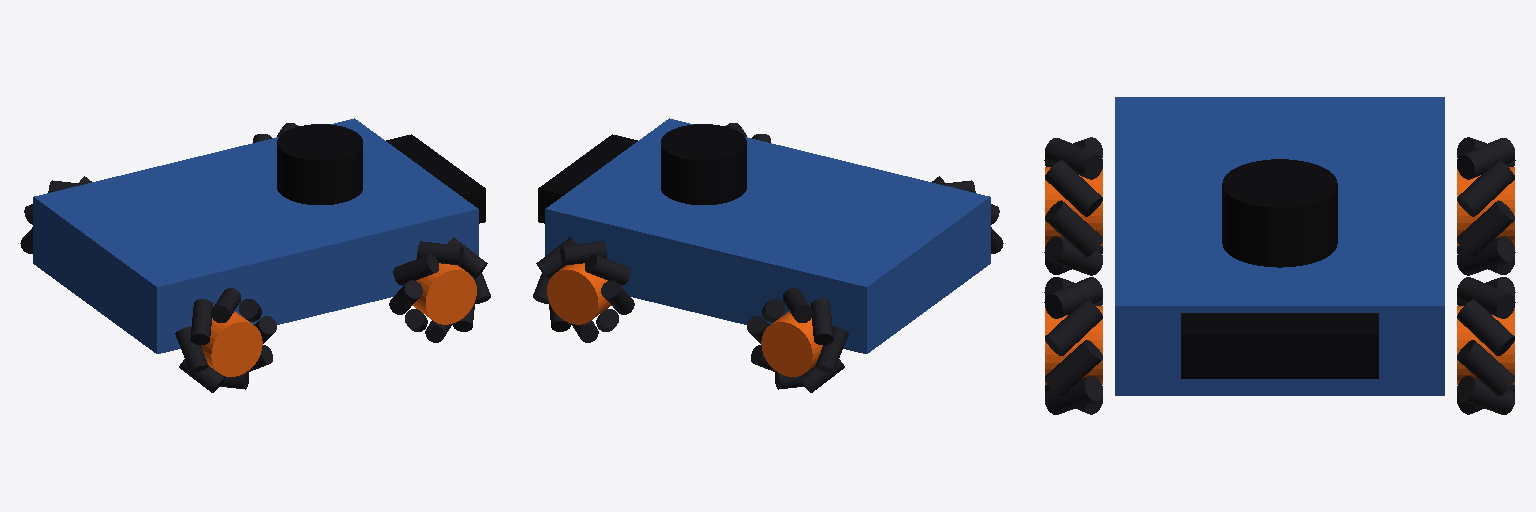
robot.urdf — mecanum_bot:
<?xml version="1.0" ?>
<!-- Generated by Robot Studio 1.0.0 from the 'mecanum' template. Software-generated: check masses, dimensions and limits against the real robot. -->
<robot name="mecanum_bot">
  <material name="chassis">
    <color rgba="0.2 0.36 0.62 1"/>
  </material>
  <material name="wheel">
    <color rgba="0.15 0.15 0.17 1"/>
  </material>
  <material name="hub">
    <color rgba="0.92 0.42 0.12 1"/>
  </material>
  <material name="caster">
    <color rgba="0.6 0.6 0.62 1"/>
  </material>
  <material name="sensor">
    <color rgba="0.08 0.08 0.09 1"/>
  </material>
  <link name="base_footprint"/>
  <link name="base_link">
    <inertial>
      <origin rpy="0 0 0" xyz="0 0 0.02"/>
      <mass value="3"/>
      <inertia ixx="0.010900000000000002" ixy="0" ixz="0" iyy="0.0234" iyz="0" izz="0.0325"/>
    </inertial>
    <visual>
      <origin rpy="0 0 0" xyz="0 0 0.02"/>
      <geometry>
        <box size="0.3 0.2 0.06"/>
      </geometry>
      <material name="chassis"/>
    </visual>
    <collision>
      <origin rpy="0 0 0" xyz="0 0 0.02"/>
      <geometry>
        <box size="0.3 0.2 0.06"/>
      </geometry>
    </collision>
  </link>
  <joint name="base_joint" type="fixed">
    <parent link="base_footprint"/>
    <child link="base_link"/>
    <origin rpy="0 0 0" xyz="0 0 0.04"/>
  </joint>
  <link name="front_left_wheel">
    <inertial>
      <origin rpy="0 0 0" xyz="0 0 0"/>
      <mass value="0.15"/>
      <inertia ixx="0.0000753125" ixy="0" ixz="0" iyy="0.00012" iyz="0" izz="0.0000753125"/>
    </inertial>
    <visual name="hub">
      <origin rpy="1.5707963267948966 0 0" xyz="0 0 0"/>
      <geometry>
        <cylinder length="0.035" radius="0.024"/>
      </geometry>
      <material name="hub"/>
    </visual>
    <visual name="roller_0">
      <origin rpy="0.7853981633974483 0 0" xyz="0.032 0 0"/>
      <geometry>
        <cylinder length="0.03455751918948773" radius="0.008"/>
      </geometry>
      <material name="wheel"/>
    </visual>
    <visual name="roller_1">
      <origin rpy="0.7853981633974483 -0.7853981633974483 0" xyz="0.022627416997969524 0 0.02262741699796952"/>
      <geometry>
        <cylinder length="0.03455751918948773" radius="0.008"/>
      </geometry>
      <material name="wheel"/>
    </visual>
    <visual name="roller_2">
      <origin rpy="0.7853981633974483 -1.5707963267948966 0" xyz="1.959434878635765e-18 0 0.032"/>
      <geometry>
        <cylinder length="0.03455751918948773" radius="0.008"/>
      </geometry>
      <material name="wheel"/>
    </visual>
    <visual name="roller_3">
      <origin rpy="0.7853981633974483 -2.356194490192345 0" xyz="-0.02262741699796952 0 0.022627416997969524"/>
      <geometry>
        <cylinder length="0.03455751918948773" radius="0.008"/>
      </geometry>
      <material name="wheel"/>
    </visual>
    <visual name="roller_4">
      <origin rpy="0.7853981633974483 -3.141592653589793 0" xyz="-0.032 0 3.91886975727153e-18"/>
      <geometry>
        <cylinder length="0.03455751918948773" radius="0.008"/>
      </geometry>
      <material name="wheel"/>
    </visual>
    <visual name="roller_5">
      <origin rpy="0.7853981633974483 -3.9269908169872414 0" xyz="-0.022627416997969527 0 -0.02262741699796952"/>
      <geometry>
        <cylinder length="0.03455751918948773" radius="0.008"/>
      </geometry>
      <material name="wheel"/>
    </visual>
    <visual name="roller_6">
      <origin rpy="0.7853981633974483 -4.71238898038469 0" xyz="-5.8783046359072955e-18 0 -0.032"/>
      <geometry>
        <cylinder length="0.03455751918948773" radius="0.008"/>
      </geometry>
      <material name="wheel"/>
    </visual>
    <visual name="roller_7">
      <origin rpy="0.7853981633974483 -5.497787143782138 0" xyz="0.022627416997969517 0 -0.022627416997969527"/>
      <geometry>
        <cylinder length="0.03455751918948773" radius="0.008"/>
      </geometry>
      <material name="wheel"/>
    </visual>
    <collision>
      <origin rpy="1.5707963267948966 0 0" xyz="0 0 0"/>
      <geometry>
        <cylinder length="0.035" radius="0.04"/>
      </geometry>
    </collision>
  </link>
  <joint name="front_left_wheel_joint" type="continuous">
    <parent link="base_link"/>
    <child link="front_left_wheel"/>
    <origin rpy="0 0 0" xyz="0.1 0.125 0"/>
    <axis xyz="0 1 0"/>
    <limit effort="2" velocity="20"/>
  </joint>
  <link name="front_right_wheel">
    <inertial>
      <origin rpy="0 0 0" xyz="0 0 0"/>
      <mass value="0.15"/>
      <inertia ixx="0.0000753125" ixy="0" ixz="0" iyy="0.00012" iyz="0" izz="0.0000753125"/>
    </inertial>
    <visual name="hub">
      <origin rpy="1.5707963267948966 0 0" xyz="0 0 0"/>
      <geometry>
        <cylinder length="0.035" radius="0.024"/>
      </geometry>
      <material name="hub"/>
    </visual>
    <visual name="roller_0">
      <origin rpy="-0.7853981633974483 0 0" xyz="0.032 0 0"/>
      <geometry>
        <cylinder length="0.03455751918948773" radius="0.008"/>
      </geometry>
      <material name="wheel"/>
    </visual>
    <visual name="roller_1">
      <origin rpy="-0.7853981633974483 -0.7853981633974483 0" xyz="0.022627416997969524 0 0.02262741699796952"/>
      <geometry>
        <cylinder length="0.03455751918948773" radius="0.008"/>
      </geometry>
      <material name="wheel"/>
    </visual>
    <visual name="roller_2">
      <origin rpy="-0.7853981633974483 -1.5707963267948966 0" xyz="1.959434878635765e-18 0 0.032"/>
      <geometry>
        <cylinder length="0.03455751918948773" radius="0.008"/>
      </geometry>
      <material name="wheel"/>
    </visual>
    <visual name="roller_3">
      <origin rpy="-0.7853981633974483 -2.356194490192345 0" xyz="-0.02262741699796952 0 0.022627416997969524"/>
      <geometry>
        <cylinder length="0.03455751918948773" radius="0.008"/>
      </geometry>
      <material name="wheel"/>
    </visual>
    <visual name="roller_4">
      <origin rpy="-0.7853981633974483 -3.141592653589793 0" xyz="-0.032 0 3.91886975727153e-18"/>
      <geometry>
        <cylinder length="0.03455751918948773" radius="0.008"/>
      </geometry>
      <material name="wheel"/>
    </visual>
    <visual name="roller_5">
      <origin rpy="-0.7853981633974483 -3.9269908169872414 0" xyz="-0.022627416997969527 0 -0.02262741699796952"/>
      <geometry>
        <cylinder length="0.03455751918948773" radius="0.008"/>
      </geometry>
      <material name="wheel"/>
    </visual>
    <visual name="roller_6">
      <origin rpy="-0.7853981633974483 -4.71238898038469 0" xyz="-5.8783046359072955e-18 0 -0.032"/>
      <geometry>
        <cylinder length="0.03455751918948773" radius="0.008"/>
      </geometry>
      <material name="wheel"/>
    </visual>
    <visual name="roller_7">
      <origin rpy="-0.7853981633974483 -5.497787143782138 0" xyz="0.022627416997969517 0 -0.022627416997969527"/>
      <geometry>
        <cylinder length="0.03455751918948773" radius="0.008"/>
      </geometry>
      <material name="wheel"/>
    </visual>
    <collision>
      <origin rpy="1.5707963267948966 0 0" xyz="0 0 0"/>
      <geometry>
        <cylinder length="0.035" radius="0.04"/>
      </geometry>
    </collision>
  </link>
  <joint name="front_right_wheel_joint" type="continuous">
    <parent link="base_link"/>
    <child link="front_right_wheel"/>
    <origin rpy="0 0 0" xyz="0.1 -0.125 0"/>
    <axis xyz="0 1 0"/>
    <limit effort="2" velocity="20"/>
  </joint>
  <link name="rear_left_wheel">
    <inertial>
      <origin rpy="0 0 0" xyz="0 0 0"/>
      <mass value="0.15"/>
      <inertia ixx="0.0000753125" ixy="0" ixz="0" iyy="0.00012" iyz="0" izz="0.0000753125"/>
    </inertial>
    <visual name="hub">
      <origin rpy="1.5707963267948966 0 0" xyz="0 0 0"/>
      <geometry>
        <cylinder length="0.035" radius="0.024"/>
      </geometry>
      <material name="hub"/>
    </visual>
    <visual name="roller_0">
      <origin rpy="-0.7853981633974483 0 0" xyz="0.032 0 0"/>
      <geometry>
        <cylinder length="0.03455751918948773" radius="0.008"/>
      </geometry>
      <material name="wheel"/>
    </visual>
    <visual name="roller_1">
      <origin rpy="-0.7853981633974483 -0.7853981633974483 0" xyz="0.022627416997969524 0 0.02262741699796952"/>
      <geometry>
        <cylinder length="0.03455751918948773" radius="0.008"/>
      </geometry>
      <material name="wheel"/>
    </visual>
    <visual name="roller_2">
      <origin rpy="-0.7853981633974483 -1.5707963267948966 0" xyz="1.959434878635765e-18 0 0.032"/>
      <geometry>
        <cylinder length="0.03455751918948773" radius="0.008"/>
      </geometry>
      <material name="wheel"/>
    </visual>
    <visual name="roller_3">
      <origin rpy="-0.7853981633974483 -2.356194490192345 0" xyz="-0.02262741699796952 0 0.022627416997969524"/>
      <geometry>
        <cylinder length="0.03455751918948773" radius="0.008"/>
      </geometry>
      <material name="wheel"/>
    </visual>
    <visual name="roller_4">
      <origin rpy="-0.7853981633974483 -3.141592653589793 0" xyz="-0.032 0 3.91886975727153e-18"/>
      <geometry>
        <cylinder length="0.03455751918948773" radius="0.008"/>
      </geometry>
      <material name="wheel"/>
    </visual>
    <visual name="roller_5">
      <origin rpy="-0.7853981633974483 -3.9269908169872414 0" xyz="-0.022627416997969527 0 -0.02262741699796952"/>
      <geometry>
        <cylinder length="0.03455751918948773" radius="0.008"/>
      </geometry>
      <material name="wheel"/>
    </visual>
    <visual name="roller_6">
      <origin rpy="-0.7853981633974483 -4.71238898038469 0" xyz="-5.8783046359072955e-18 0 -0.032"/>
      <geometry>
        <cylinder length="0.03455751918948773" radius="0.008"/>
      </geometry>
      <material name="wheel"/>
    </visual>
    <visual name="roller_7">
      <origin rpy="-0.7853981633974483 -5.497787143782138 0" xyz="0.022627416997969517 0 -0.022627416997969527"/>
      <geometry>
        <cylinder length="0.03455751918948773" radius="0.008"/>
      </geometry>
      <material name="wheel"/>
    </visual>
    <collision>
      <origin rpy="1.5707963267948966 0 0" xyz="0 0 0"/>
      <geometry>
        <cylinder length="0.035" radius="0.04"/>
      </geometry>
    </collision>
  </link>
  <joint name="rear_left_wheel_joint" type="continuous">
    <parent link="base_link"/>
    <child link="rear_left_wheel"/>
    <origin rpy="0 0 0" xyz="-0.1 0.125 0"/>
    <axis xyz="0 1 0"/>
    <limit effort="2" velocity="20"/>
  </joint>
  <link name="rear_right_wheel">
    <inertial>
      <origin rpy="0 0 0" xyz="0 0 0"/>
      <mass value="0.15"/>
      <inertia ixx="0.0000753125" ixy="0" ixz="0" iyy="0.00012" iyz="0" izz="0.0000753125"/>
    </inertial>
    <visual name="hub">
      <origin rpy="1.5707963267948966 0 0" xyz="0 0 0"/>
      <geometry>
        <cylinder length="0.035" radius="0.024"/>
      </geometry>
      <material name="hub"/>
    </visual>
    <visual name="roller_0">
      <origin rpy="0.7853981633974483 0 0" xyz="0.032 0 0"/>
      <geometry>
        <cylinder length="0.03455751918948773" radius="0.008"/>
      </geometry>
      <material name="wheel"/>
    </visual>
    <visual name="roller_1">
      <origin rpy="0.7853981633974483 -0.7853981633974483 0" xyz="0.022627416997969524 0 0.02262741699796952"/>
      <geometry>
        <cylinder length="0.03455751918948773" radius="0.008"/>
      </geometry>
      <material name="wheel"/>
    </visual>
    <visual name="roller_2">
      <origin rpy="0.7853981633974483 -1.5707963267948966 0" xyz="1.959434878635765e-18 0 0.032"/>
      <geometry>
        <cylinder length="0.03455751918948773" radius="0.008"/>
      </geometry>
      <material name="wheel"/>
    </visual>
    <visual name="roller_3">
      <origin rpy="0.7853981633974483 -2.356194490192345 0" xyz="-0.02262741699796952 0 0.022627416997969524"/>
      <geometry>
        <cylinder length="0.03455751918948773" radius="0.008"/>
      </geometry>
      <material name="wheel"/>
    </visual>
    <visual name="roller_4">
      <origin rpy="0.7853981633974483 -3.141592653589793 0" xyz="-0.032 0 3.91886975727153e-18"/>
      <geometry>
        <cylinder length="0.03455751918948773" radius="0.008"/>
      </geometry>
      <material name="wheel"/>
    </visual>
    <visual name="roller_5">
      <origin rpy="0.7853981633974483 -3.9269908169872414 0" xyz="-0.022627416997969527 0 -0.02262741699796952"/>
      <geometry>
        <cylinder length="0.03455751918948773" radius="0.008"/>
      </geometry>
      <material name="wheel"/>
    </visual>
    <visual name="roller_6">
      <origin rpy="0.7853981633974483 -4.71238898038469 0" xyz="-5.8783046359072955e-18 0 -0.032"/>
      <geometry>
        <cylinder length="0.03455751918948773" radius="0.008"/>
      </geometry>
      <material name="wheel"/>
    </visual>
    <visual name="roller_7">
      <origin rpy="0.7853981633974483 -5.497787143782138 0" xyz="0.022627416997969517 0 -0.022627416997969527"/>
      <geometry>
        <cylinder length="0.03455751918948773" radius="0.008"/>
      </geometry>
      <material name="wheel"/>
    </visual>
    <collision>
      <origin rpy="1.5707963267948966 0 0" xyz="0 0 0"/>
      <geometry>
        <cylinder length="0.035" radius="0.04"/>
      </geometry>
    </collision>
  </link>
  <joint name="rear_right_wheel_joint" type="continuous">
    <parent link="base_link"/>
    <child link="rear_right_wheel"/>
    <origin rpy="0 0 0" xyz="-0.1 -0.125 0"/>
    <axis xyz="0 1 0"/>
    <limit effort="2" velocity="20"/>
  </joint>
  <link name="lidar_link">
    <inertial>
      <origin rpy="0 0 0" xyz="0 0 0"/>
      <mass value="0.17"/>
      <inertia ixx="0.00007472916666666668" ixy="0" ixz="0" iyy="0.00007472916666666668" iyz="0" izz="0.00010412500000000004"/>
    </inertial>
    <visual>
      <origin rpy="0 0 0" xyz="0 0 0"/>
      <geometry>
        <cylinder length="0.04" radius="0.035"/>
      </geometry>
      <material name="sensor"/>
    </visual>
    <collision>
      <origin rpy="0 0 0" xyz="0 0 0"/>
      <geometry>
        <cylinder length="0.04" radius="0.035"/>
      </geometry>
    </collision>
  </link>
  <joint name="lidar_joint" type="fixed">
    <parent link="base_link"/>
    <child link="lidar_link"/>
    <origin rpy="0 0 0" xyz="0.06 0 0.07"/>
  </joint>
  <link name="imu_link">
    <inertial>
      <origin rpy="0 0 0" xyz="0 0 0"/>
      <mass value="0.01"/>
      <inertia ixx="3.5416666666666673e-7" ixy="0" ixz="0" iyy="3.5416666666666673e-7" iyz="0" izz="6.666666666666668e-7"/>
    </inertial>
    <visual>
      <origin rpy="0 0 0" xyz="0 0 0"/>
      <geometry>
        <box size="0.02 0.02 0.005"/>
      </geometry>
      <material name="sensor"/>
    </visual>
    <collision>
      <origin rpy="0 0 0" xyz="0 0 0"/>
      <geometry>
        <box size="0.02 0.02 0.005"/>
      </geometry>
    </collision>
  </link>
  <joint name="imu_joint" type="fixed">
    <parent link="base_link"/>
    <child link="imu_link"/>
    <origin rpy="0 0 0" xyz="0 0 0.02"/>
  </joint>
  <link name="depth_camera_link">
    <inertial>
      <origin rpy="0 0 0" xyz="0 0 0"/>
      <mass value="0.1"/>
      <inertia ixx="0.0001275" ixy="0" ixz="0" iyy="0.000015" iyz="0" izz="0.0001275"/>
    </inertial>
    <visual>
      <origin rpy="0 0 0" xyz="0 0 0"/>
      <geometry>
        <box size="0.03 0.12 0.03"/>
      </geometry>
      <material name="sensor"/>
    </visual>
    <collision>
      <origin rpy="0 0 0" xyz="0 0 0"/>
      <geometry>
        <box size="0.03 0.12 0.03"/>
      </geometry>
    </collision>
  </link>
  <joint name="depth_camera_joint" type="fixed">
    <parent link="base_link"/>
    <child link="depth_camera_link"/>
    <origin rpy="0 0 0" xyz="0.165 0 0.03"/>
  </joint>
  <link name="depth_camera_optical_frame"/>
  <joint name="depth_camera_optical_joint" type="fixed">
    <parent link="depth_camera_link"/>
    <child link="depth_camera_optical_frame"/>
    <origin rpy="-1.5707963267948966 0 -1.5707963267948966" xyz="0 0 0"/>
  </joint>
</robot>

--- What the picture shows (computed from the rendered views, not written in the file) ---
Views: 3 orthographic renders of the robot side by side, from view 1: azimuth 30°, elevation 25°; view 2: azimuth 150°, elevation 25°; view 3: azimuth 270°, elevation 25°.
Robot: mecanum_bot — 10 links, 9 joints (4 continuous, 5 fixed); root link base_footprint; default pose: all joints at 0.
Links seen in each view (by area): view 1: base_link, front_right_wheel, rear_right_wheel, lidar_link, depth_camera_link, rear_left_wheel; view 2: base_link, front_left_wheel, rear_left_wheel, lidar_link, depth_camera_link, rear_right_wheel; view 3: base_link, depth_camera_link, lidar_link, front_left_wheel, front_right_wheel, rear_left_wheel, rear_right_wheel.
Link boxes in pixels (box(x1,y1,x2,y2)): base_link: box(33, 118, 478, 353); front_right_wheel: box(389, 237, 490, 342); rear_right_wheel: box(175, 288, 276, 392); lidar_link: box(277, 124, 362, 204); depth_camera_link: box(386, 134, 485, 223); rear_left_wheel: box(20, 176, 91, 253); base_link: box(545, 118, 990, 353); front_left_wheel: box(533, 237, 634, 342); rear_left_wheel: box(747, 288, 848, 392); lidar_link: box(661, 124, 746, 204); depth_camera_link: box(538, 134, 637, 223); rear_right_wheel: box(932, 176, 1003, 253); base_link: box(1115, 97, 1444, 395); depth_camera_link: box(1181, 313, 1378, 378); lidar_link: box(1222, 159, 1337, 267); front_left_wheel: box(1457, 277, 1515, 414); front_right_wheel: box(1044, 277, 1102, 414); rear_left_wheel: box(1457, 137, 1515, 275); rear_right_wheel: box(1044, 137, 1102, 275).
Size in the robot's own frame: 0.33 by 0.2857 by 0.13 metres.
Geometry: primitives only (box / cylinder / sphere), no mesh files.
